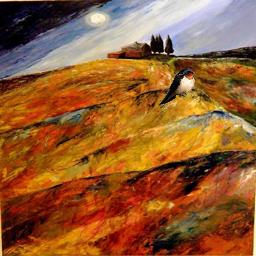Swallow: (159, 68, 195, 108)
